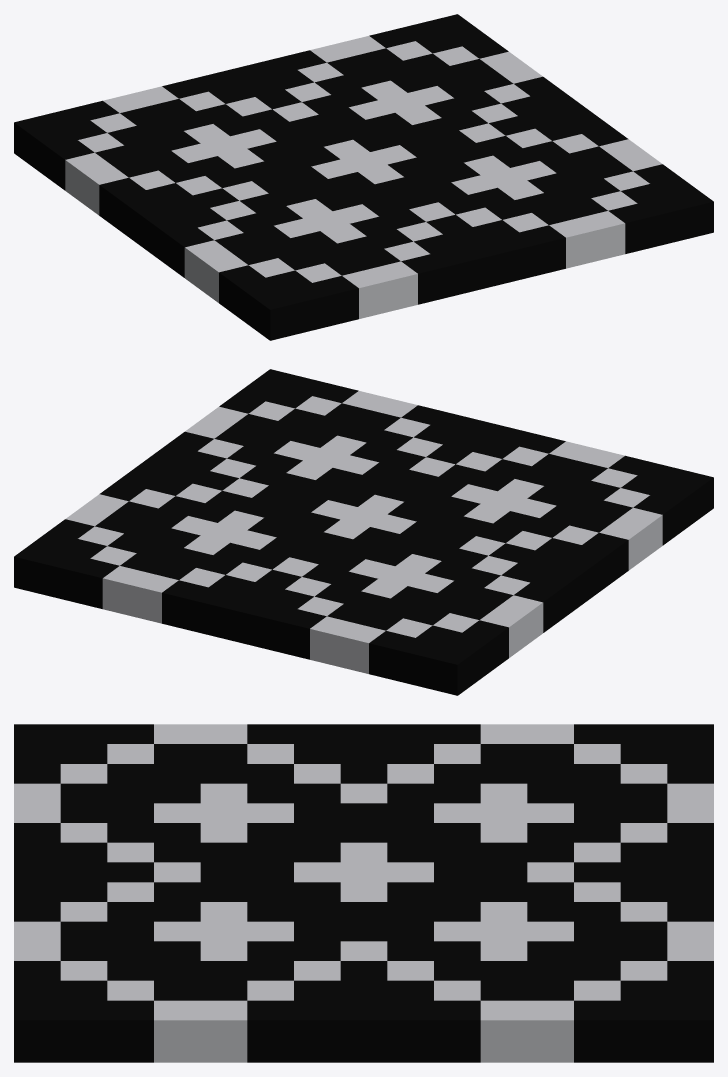
Rendered from dungeon_d_a_ground_d_b.obj.
3 renders of one model, top to bottom at view 1: azimuth 30°, elevation 25°; view 2: azimuth 150°, elevation 25°; view 3: azimuth 270°, elevation 25°, orthographic. The views are drawn at different scales.
Bounding box in the file's own units: 1.5 × 0.1 × 1.5.
Materials: 1 (1 with a texture image).
